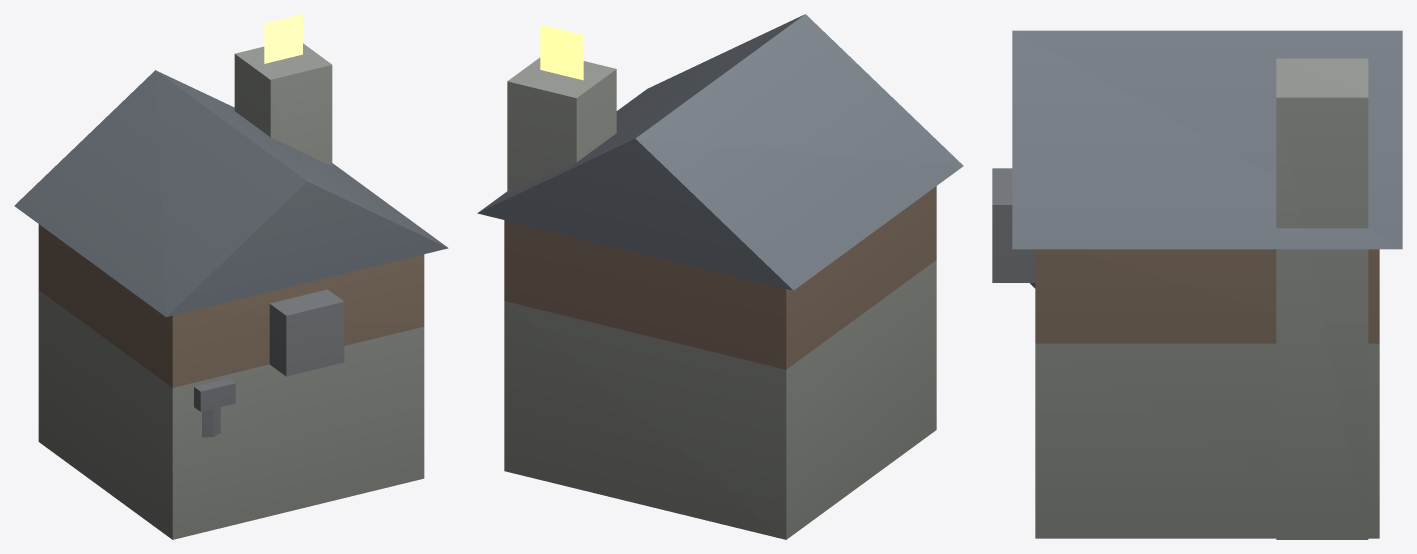
File: blacksmith.glb
The picture shows the model from 3 angles, left to right: view 1: azimuth 30°, elevation 25°; view 2: azimuth 150°, elevation 25°; view 3: azimuth 270°, elevation 25°; orthographic projection. The views are drawn at different scales.
Visible parts, largest first — view 1: blacksmith; view 2: blacksmith; view 3: blacksmith.
Boxes of the visible parts, x1,y1,x2,y2 form: blacksmith: (14, 14, 448, 539); blacksmith: (477, 14, 963, 539); blacksmith: (992, 30, 1402, 539).
Bounding box in the file's own units: 1.46 × 1.9 × 1.43.
